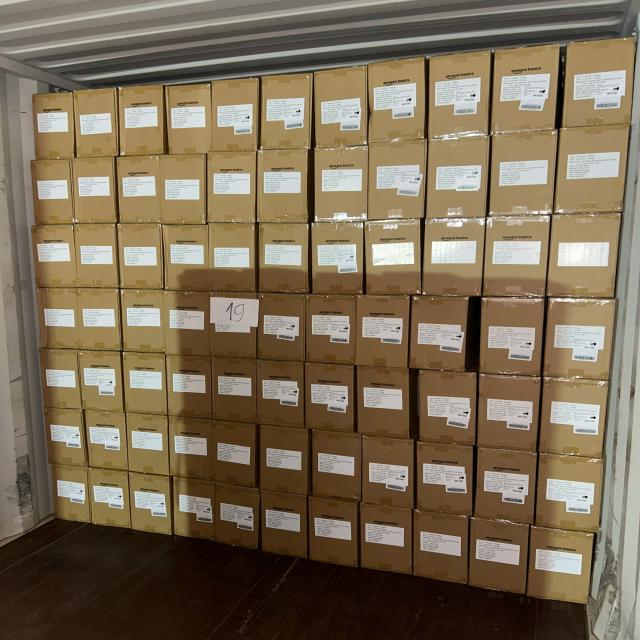Carton: (556, 125, 629, 214), (560, 36, 632, 126), (549, 212, 621, 296), (547, 300, 618, 384), (492, 45, 558, 134), (488, 132, 556, 215), (541, 376, 609, 456), (36, 286, 121, 350), (428, 51, 489, 138), (536, 454, 602, 534), (529, 524, 593, 604), (485, 214, 548, 295), (478, 296, 541, 377), (426, 136, 488, 218), (422, 216, 483, 295), (478, 372, 539, 451), (371, 60, 427, 146), (477, 449, 537, 527), (471, 520, 530, 599), (367, 143, 425, 223), (418, 370, 476, 448), (315, 68, 369, 150), (409, 298, 467, 374), (364, 217, 421, 294), (412, 509, 468, 587), (416, 444, 474, 519), (314, 149, 368, 226), (355, 366, 409, 441), (358, 502, 412, 576), (262, 74, 313, 152), (356, 293, 408, 369), (258, 152, 310, 227), (314, 223, 366, 296), (361, 438, 413, 510), (314, 429, 364, 502), (259, 427, 309, 500), (260, 223, 310, 295), (303, 360, 353, 431), (310, 499, 360, 570), (208, 154, 256, 227), (309, 296, 358, 367), (211, 79, 258, 153), (159, 156, 206, 228), (261, 491, 308, 560), (208, 294, 257, 360), (120, 88, 166, 158), (210, 225, 256, 295), (259, 358, 307, 425), (259, 294, 306, 362), (164, 226, 210, 295), (169, 83, 214, 153), (216, 484, 261, 552), (120, 223, 165, 291), (211, 422, 256, 489), (75, 90, 118, 160), (166, 292, 210, 360), (121, 288, 166, 354), (74, 221, 118, 288), (28, 222, 74, 286), (72, 160, 115, 228), (212, 360, 256, 426), (176, 475, 220, 541), (119, 158, 161, 227), (171, 414, 214, 480), (170, 354, 214, 418), (30, 158, 72, 225), (78, 349, 123, 411), (123, 353, 167, 416), (126, 412, 170, 475), (33, 92, 73, 160), (129, 472, 172, 535), (88, 468, 131, 530), (84, 408, 126, 470), (46, 408, 88, 468), (42, 345, 82, 407), (52, 463, 90, 525), (535, 603, 588, 640)
